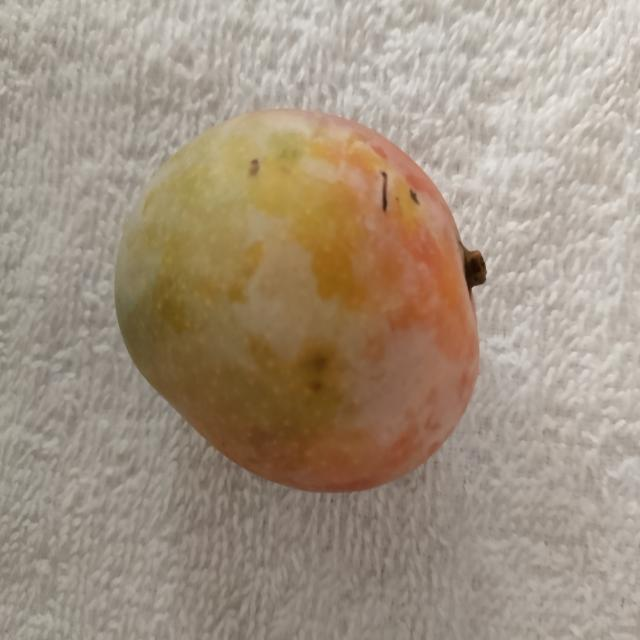mango: (113, 108, 487, 498)
